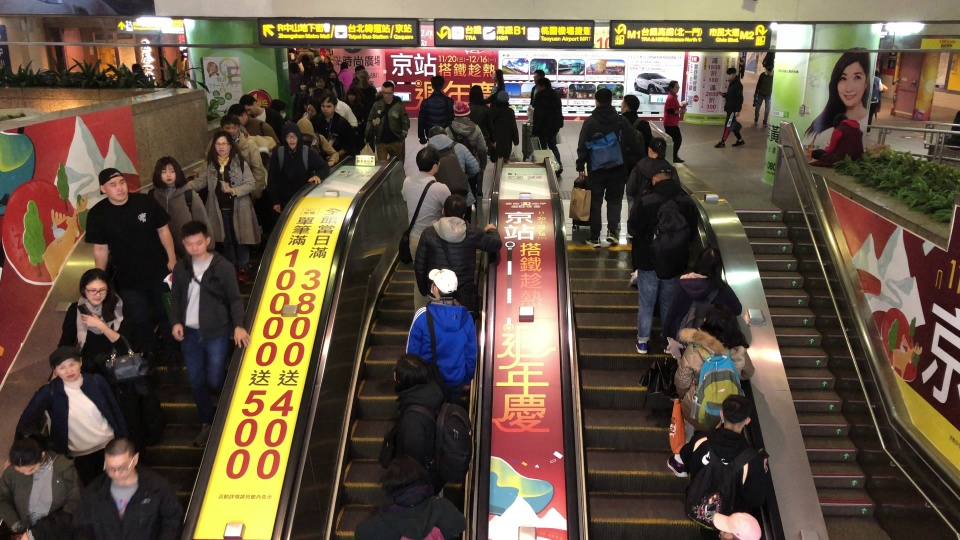person_head: (385, 453, 432, 502), (392, 352, 435, 396), (102, 436, 140, 485), (9, 432, 50, 477), (701, 306, 746, 345), (711, 509, 762, 540), (47, 346, 83, 383), (151, 156, 187, 192), (77, 268, 111, 306), (719, 394, 752, 433), (98, 167, 129, 205), (179, 221, 211, 256), (426, 267, 458, 301), (688, 245, 723, 276), (414, 145, 441, 175), (646, 164, 677, 187), (211, 131, 233, 158), (442, 194, 466, 218), (295, 115, 314, 143), (237, 94, 260, 116), (218, 115, 240, 138), (280, 124, 300, 149), (227, 103, 248, 123), (620, 93, 640, 113), (466, 85, 484, 106), (592, 88, 613, 106), (648, 137, 666, 158), (320, 96, 337, 117), (452, 100, 472, 117), (425, 125, 447, 140), (380, 81, 394, 101), (429, 75, 446, 91), (832, 113, 849, 129), (496, 90, 510, 108), (532, 68, 545, 85), (305, 102, 318, 118), (724, 67, 738, 81), (536, 77, 552, 89), (353, 64, 366, 78), (491, 69, 505, 82), (667, 80, 680, 94), (327, 71, 338, 85), (360, 70, 370, 84), (346, 91, 357, 103), (118, 63, 130, 73), (297, 79, 307, 91), (132, 62, 143, 72), (764, 63, 774, 74), (338, 62, 349, 71), (314, 56, 323, 64), (873, 67, 880, 77), (323, 55, 330, 63), (288, 47, 295, 53), (769, 44, 775, 50), (739, 56, 744, 63), (301, 45, 307, 50)
person_vbox: (83, 166, 185, 380), (170, 221, 251, 447), (13, 346, 132, 489), (44, 267, 158, 405), (666, 306, 755, 478), (629, 164, 702, 352), (678, 394, 770, 530), (387, 351, 474, 490), (662, 245, 752, 377), (73, 436, 185, 539), (416, 194, 503, 325), (193, 115, 267, 268), (188, 131, 262, 284), (403, 266, 479, 399), (353, 453, 468, 540), (574, 87, 633, 249), (399, 145, 452, 317), (0, 431, 82, 540), (626, 136, 681, 285), (147, 155, 215, 254), (422, 124, 480, 222), (613, 93, 652, 238), (268, 124, 331, 213), (443, 98, 491, 199), (462, 84, 498, 199), (365, 81, 410, 164), (531, 77, 564, 176), (807, 112, 865, 167), (714, 66, 747, 150), (416, 75, 455, 145), (227, 103, 281, 148), (662, 79, 690, 163), (294, 116, 340, 167), (316, 95, 355, 155), (236, 94, 284, 140), (489, 90, 519, 160), (866, 66, 888, 133), (752, 63, 774, 127), (524, 68, 547, 120), (346, 91, 369, 136), (482, 69, 509, 106), (290, 78, 309, 121), (357, 70, 378, 107), (326, 71, 348, 102), (302, 101, 321, 131), (348, 64, 366, 93), (338, 61, 354, 91), (762, 44, 778, 72), (131, 63, 148, 82), (116, 62, 131, 82), (736, 56, 748, 80), (299, 45, 315, 61), (322, 55, 334, 75), (314, 55, 324, 79), (287, 46, 297, 61)
